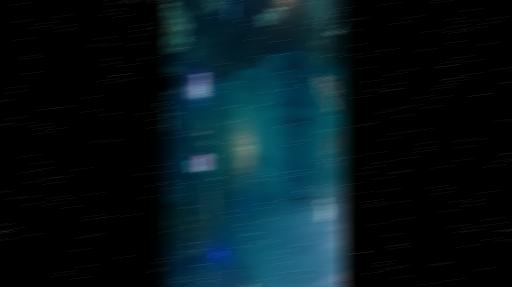Fish: (316, 74, 339, 113), (260, 7, 285, 25), (330, 127, 343, 149), (321, 136, 334, 157), (326, 151, 339, 171), (318, 198, 329, 221), (226, 3, 235, 22), (328, 25, 343, 35), (254, 151, 265, 162), (165, 278, 180, 286), (235, 1, 248, 9), (282, 69, 288, 84), (250, 160, 259, 170), (249, 172, 258, 182), (259, 85, 265, 98), (336, 274, 345, 282), (250, 78, 257, 87), (292, 196, 311, 199), (259, 62, 266, 70), (170, 118, 179, 124), (254, 63, 261, 70), (260, 106, 267, 113), (291, 119, 304, 122), (267, 68, 270, 79), (243, 70, 246, 81), (291, 182, 298, 186), (254, 64, 257, 69), (303, 189, 306, 193), (247, 86, 249, 91), (253, 86, 255, 91)
